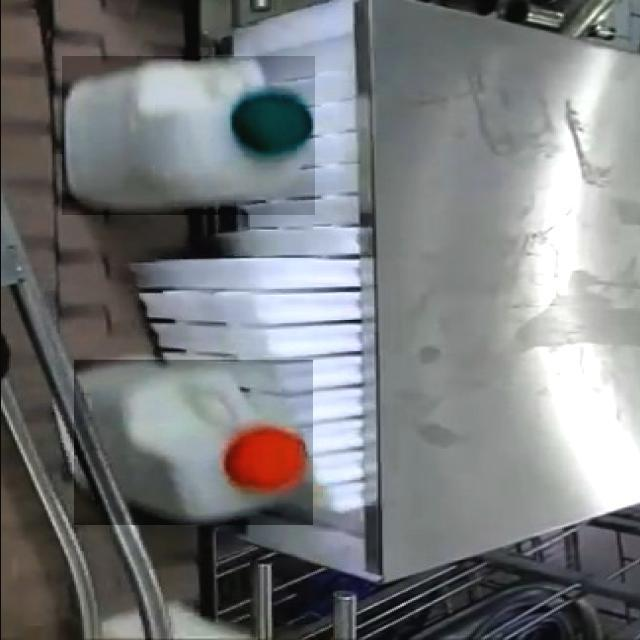milk: (55, 44, 341, 236), (78, 355, 318, 531)
